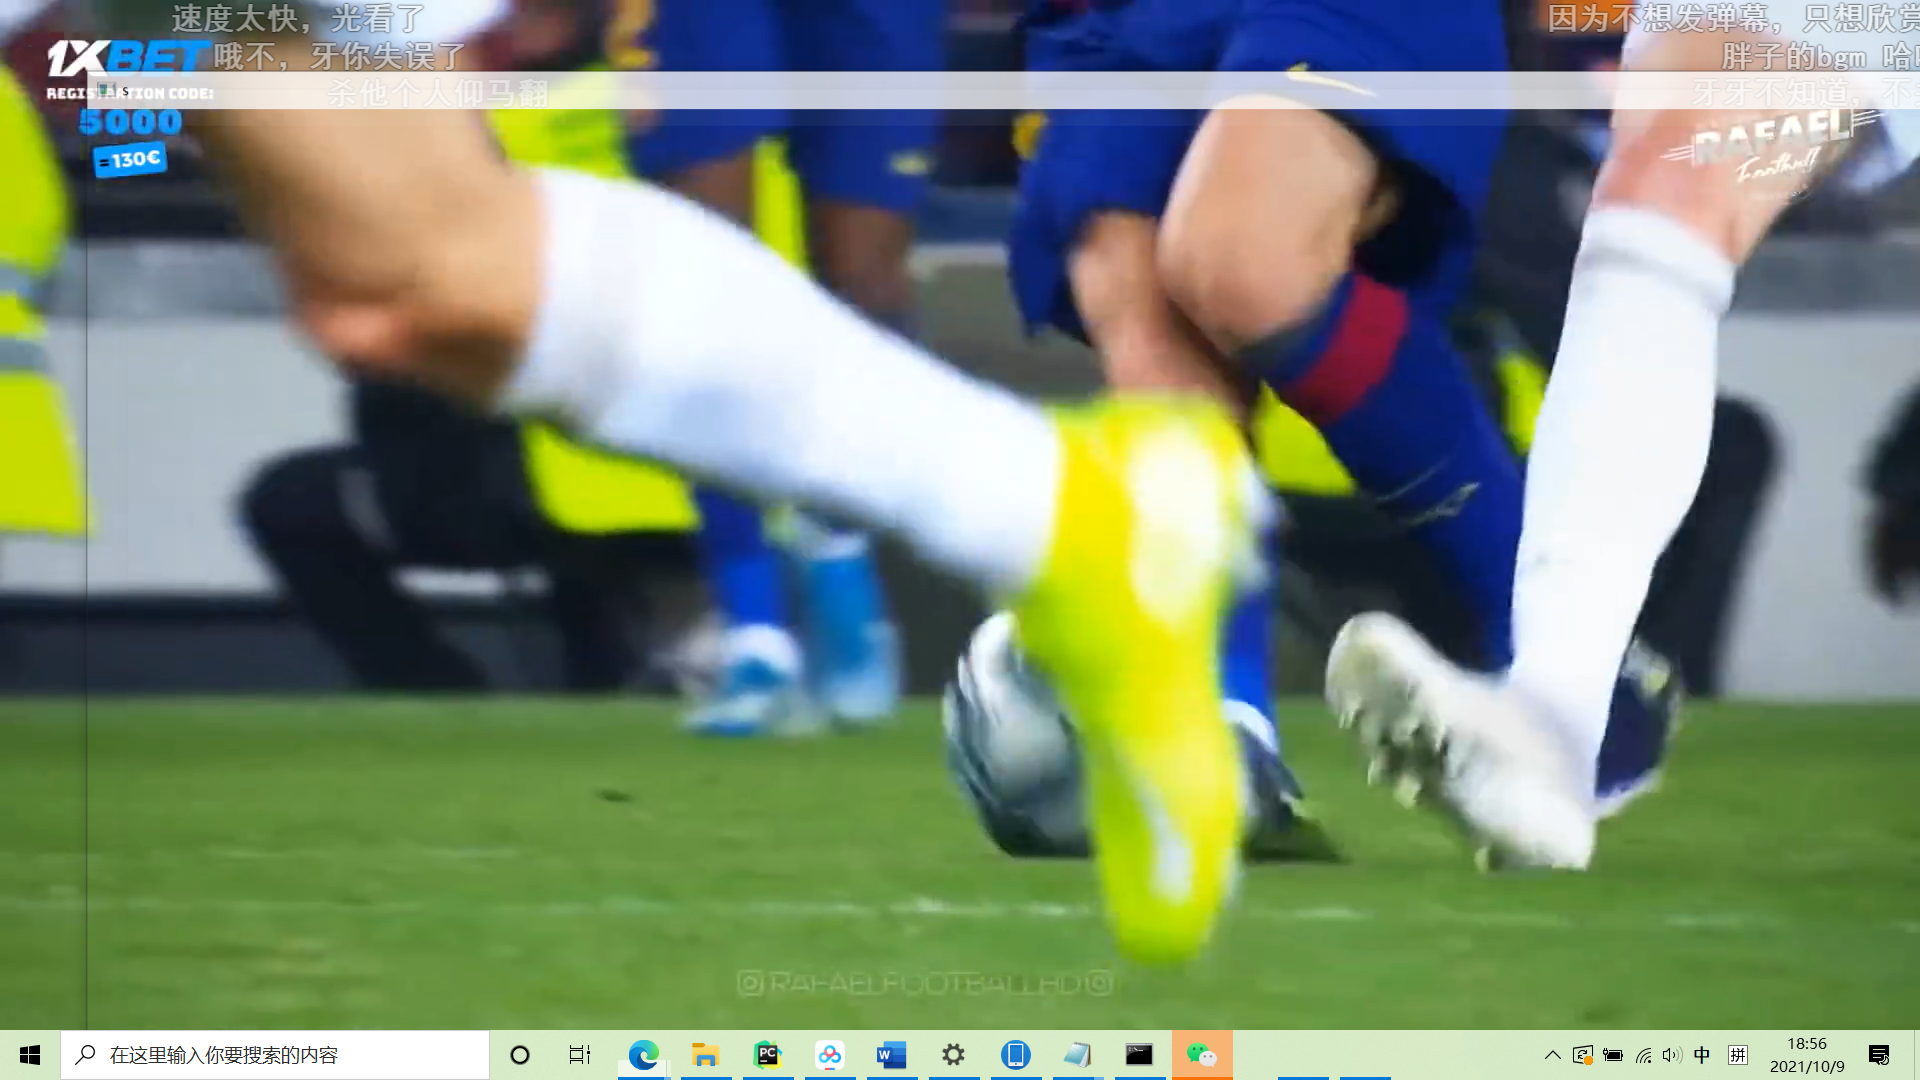ft: (920, 599, 1218, 870)
